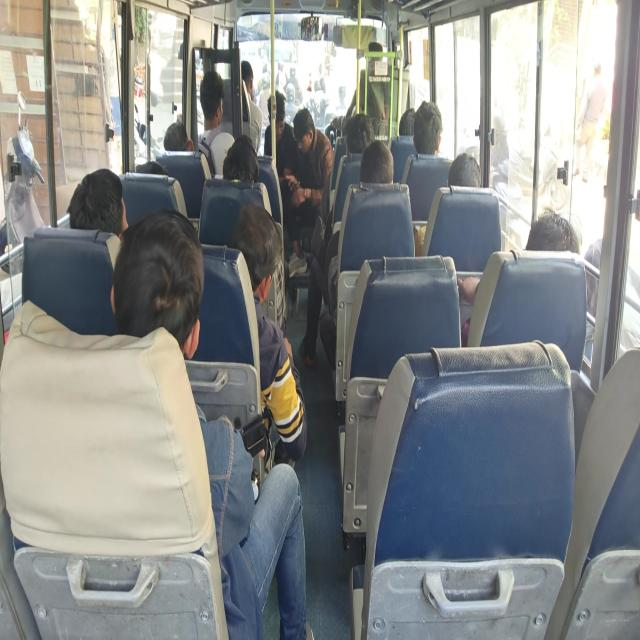person: (110, 208, 310, 638), (299, 140, 394, 368), (230, 202, 307, 467), (457, 208, 580, 346), (284, 107, 334, 276), (263, 89, 305, 273), (66, 167, 129, 239), (572, 59, 606, 182), (197, 70, 234, 176), (263, 90, 298, 182), (525, 208, 579, 254), (240, 60, 262, 154), (222, 134, 259, 183), (412, 100, 443, 156), (359, 140, 394, 184), (342, 112, 375, 155), (447, 152, 482, 188), (163, 121, 193, 151), (398, 107, 415, 136)
